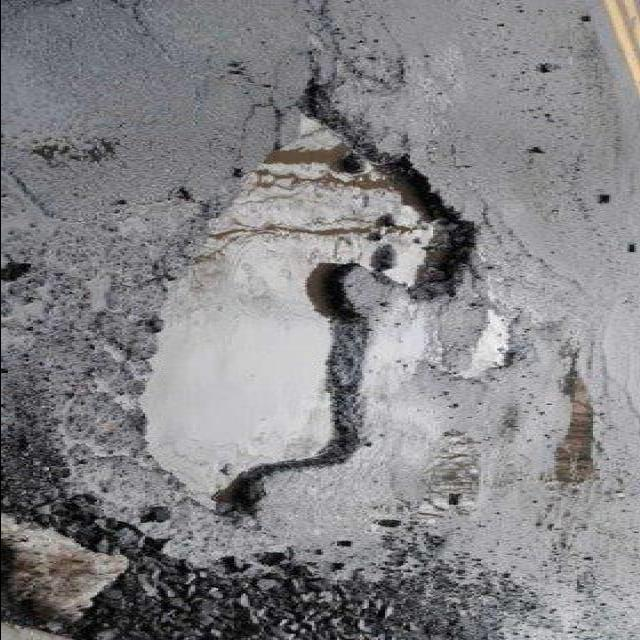jalan retak: (0, 119, 130, 442), (516, 345, 630, 578), (280, 2, 418, 108), (80, 2, 196, 80)
lubang: (104, 79, 524, 541), (437, 304, 543, 394)
